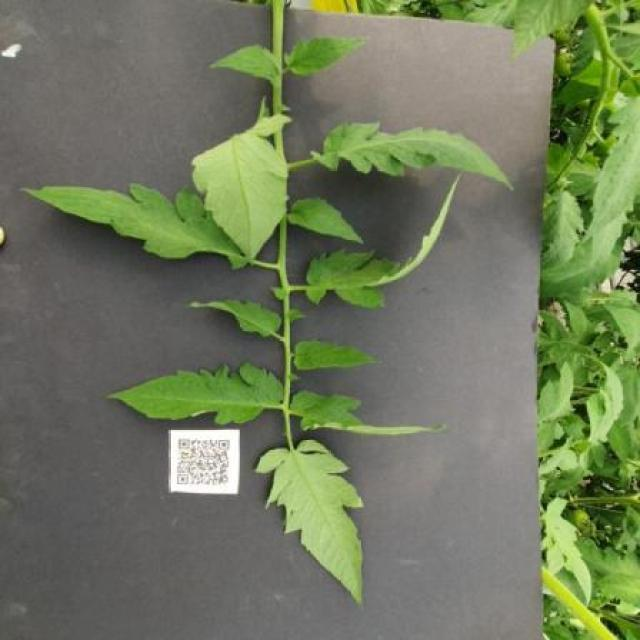Healthy: (254, 438, 376, 608), (19, 183, 250, 268), (310, 120, 514, 191), (108, 363, 283, 426), (184, 298, 282, 338), (288, 194, 363, 244), (284, 36, 370, 77), (294, 338, 382, 371), (210, 44, 280, 85)
